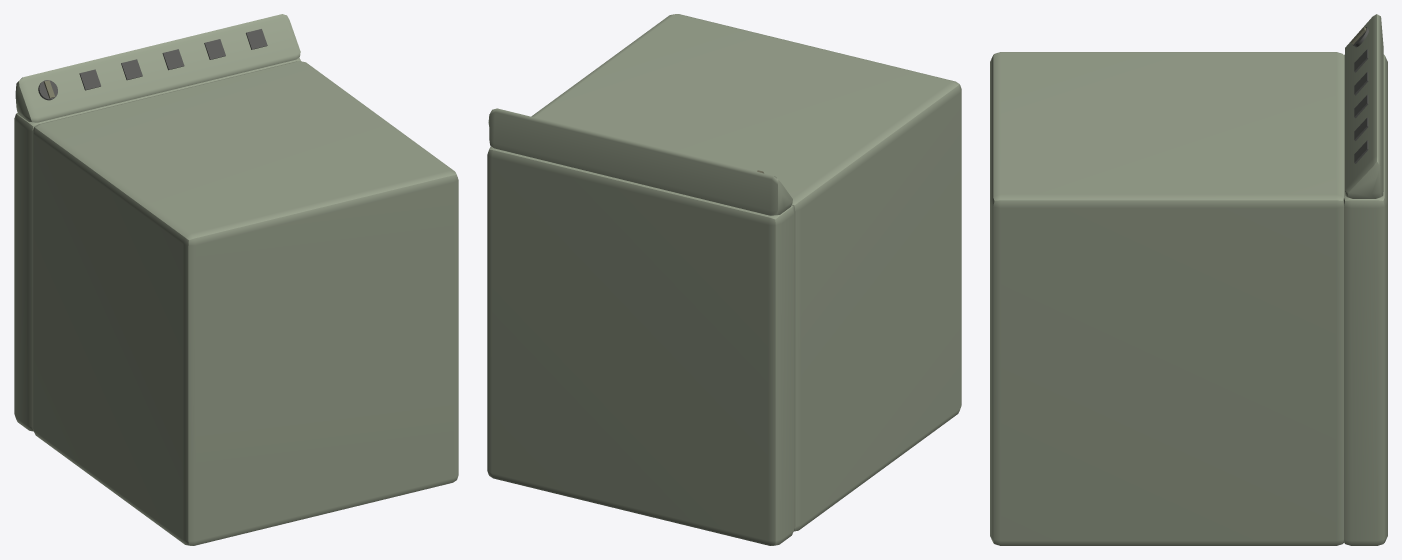
Rendered from lavadora.obj.
3 views of the same model, side by side, from view 1: azimuth 30°, elevation 25°; view 2: azimuth 150°, elevation 25°; view 3: azimuth 270°, elevation 25° (orthographic). The views are drawn at different scales.
Parts seen in each view (by area): view 1: polySurface5629; view 2: polySurface5629; view 3: polySurface5629.
Boxes of the visible parts, x1,y1,x2,y2 form: polySurface5629: [14, 14, 458, 545]; polySurface5629: [487, 14, 961, 545]; polySurface5629: [990, 14, 1387, 545].
Bounding box in the file's own units: 3.99 × 4.8 × 4.44.
Materials: 3 (2 with a texture image).
